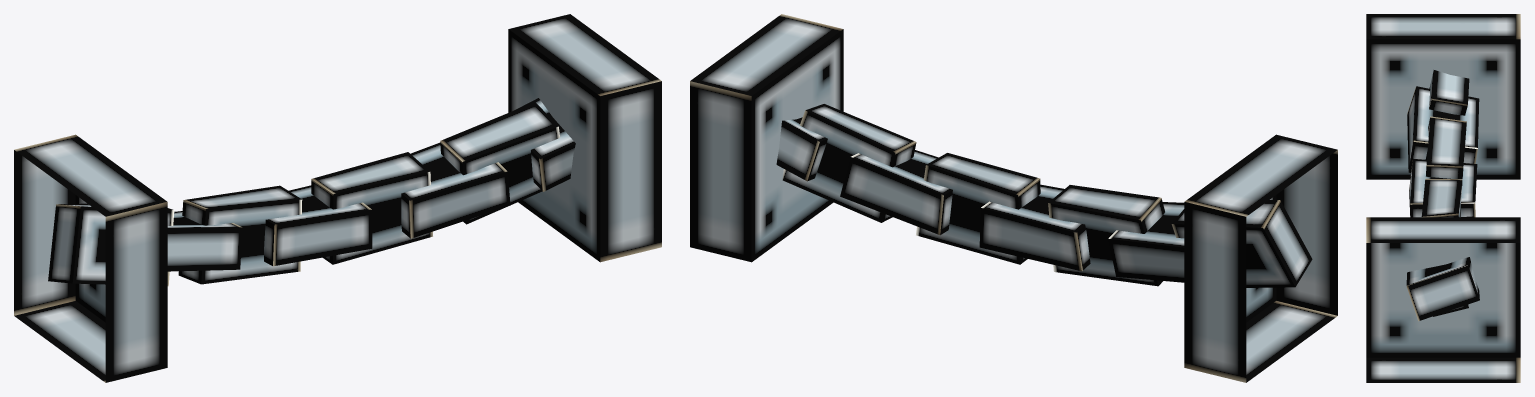
Rendered from deco_cathedral_chainShort.FBX.
3 renders of one model, left to right at view 1: azimuth 30°, elevation 25°; view 2: azimuth 150°, elevation 25°; view 3: azimuth 270°, elevation 25°, orthographic. The views are drawn at different scales.
Parts seen in each view (by area): view 1: deco_cathedral_chainShort; view 2: deco_cathedral_chainShort; view 3: deco_cathedral_chainShort.
Boxes of the visible parts, box(x1,y1,x2,y2) form: deco_cathedral_chainShort: box(14, 14, 661, 382); deco_cathedral_chainShort: box(690, 14, 1337, 382); deco_cathedral_chainShort: box(1366, 14, 1520, 382).
Bounding box in the file's own units: 1.55 × 0.4281 × 0.4281.
1 material, 1 textured.
